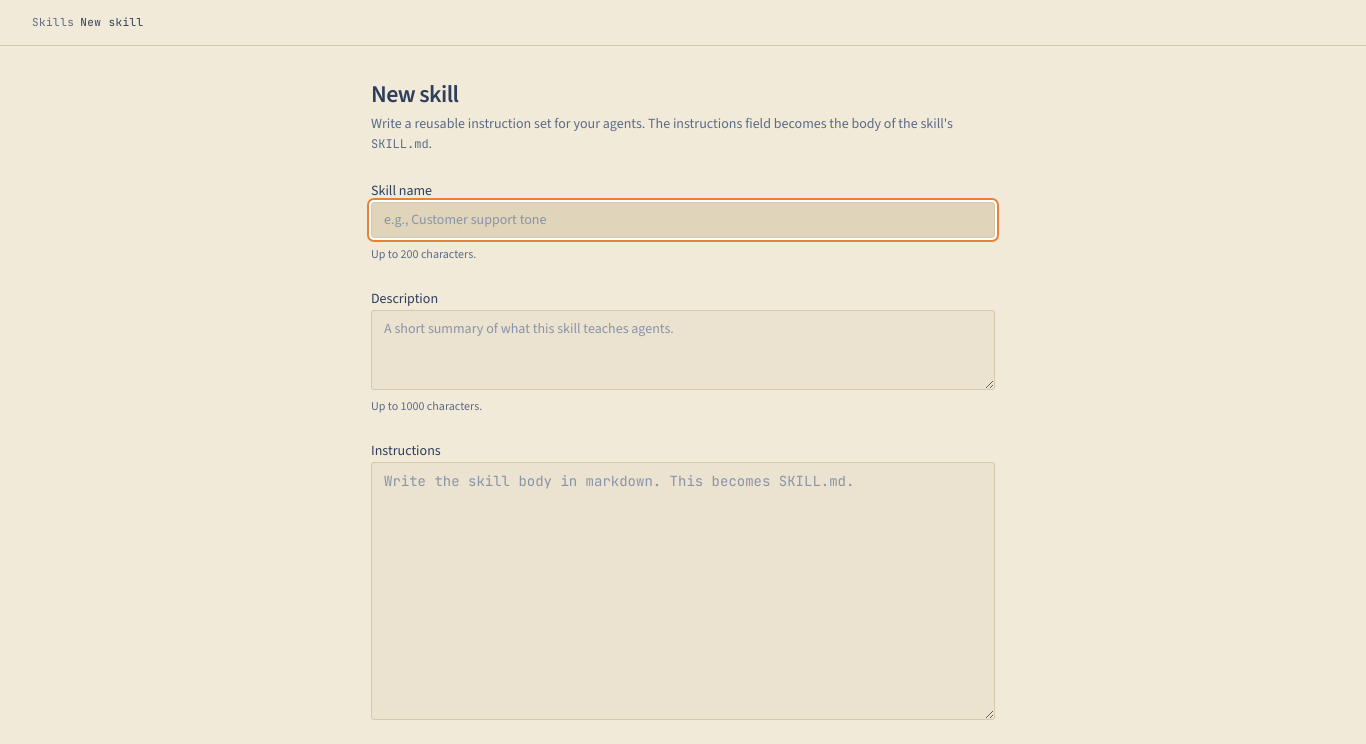
Test case: NewSkillPage › shows validation error when instructions are empty
Type "My Skill" into the field labelled "Skill name".
click(683, 220); type("My Skill")  # box x1=371 y1=202 x2=995 y2=238
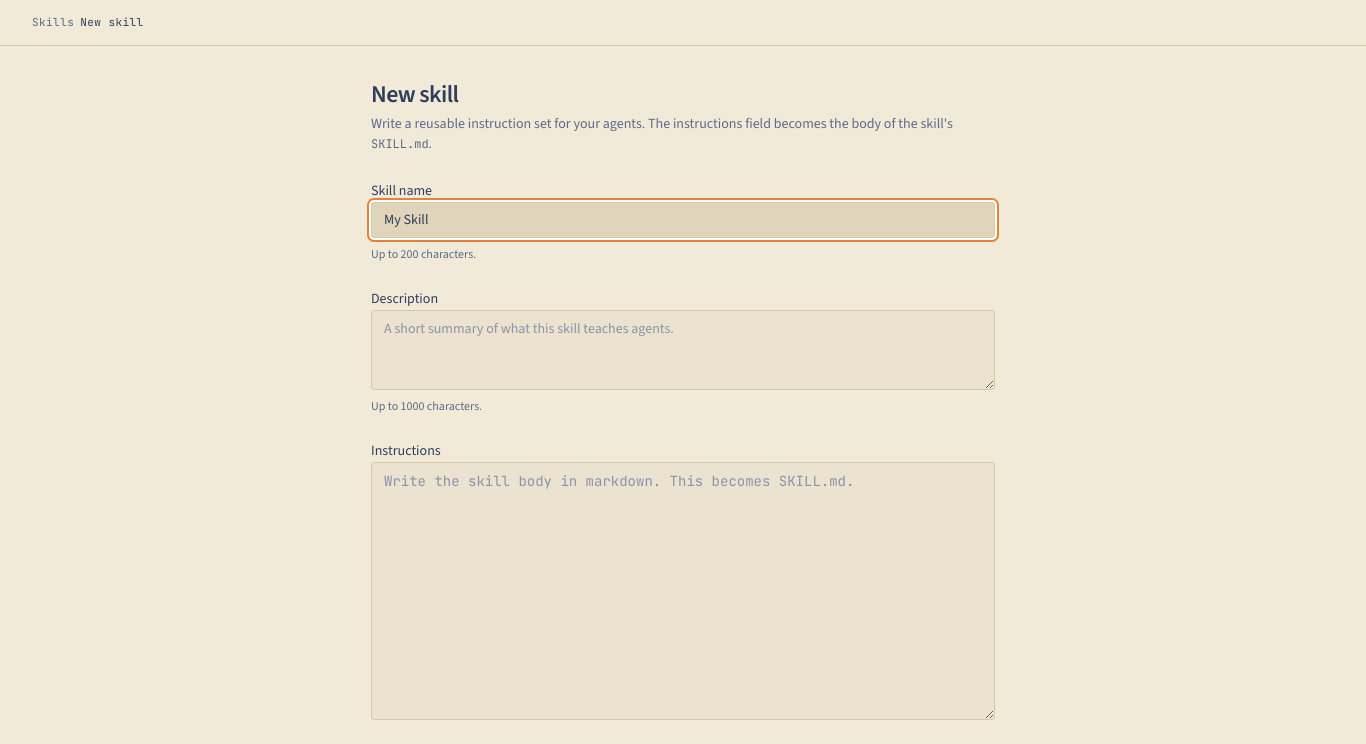
Type "A description" into the text box labelled "Description".
click(683, 350); type("A description")  # box x1=371 y1=310 x2=995 y2=390
(page scrolled)
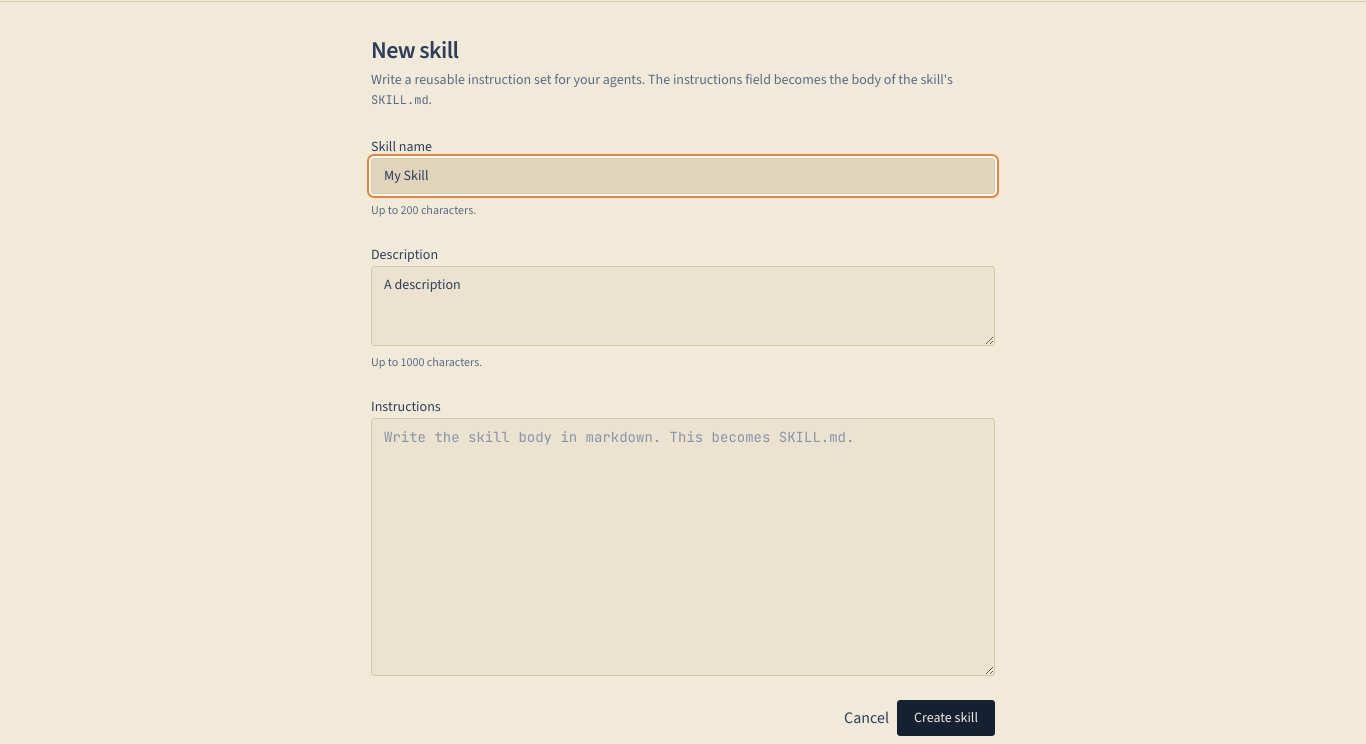
Click the button "Create skill".
click(946, 718)  # box x1=897 y1=700 x2=995 y2=736
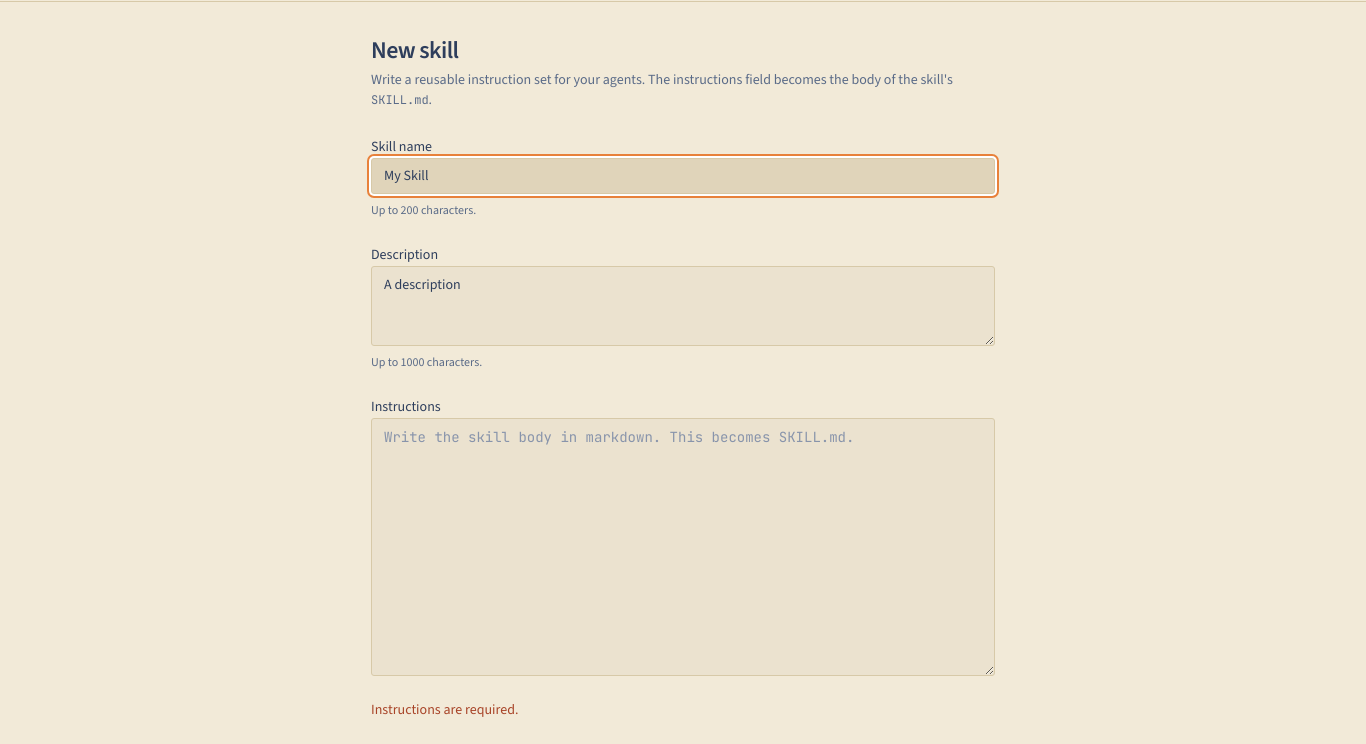
Check: the message shows "Instructions are required", box x1=371 y1=700 x2=518 y2=718
